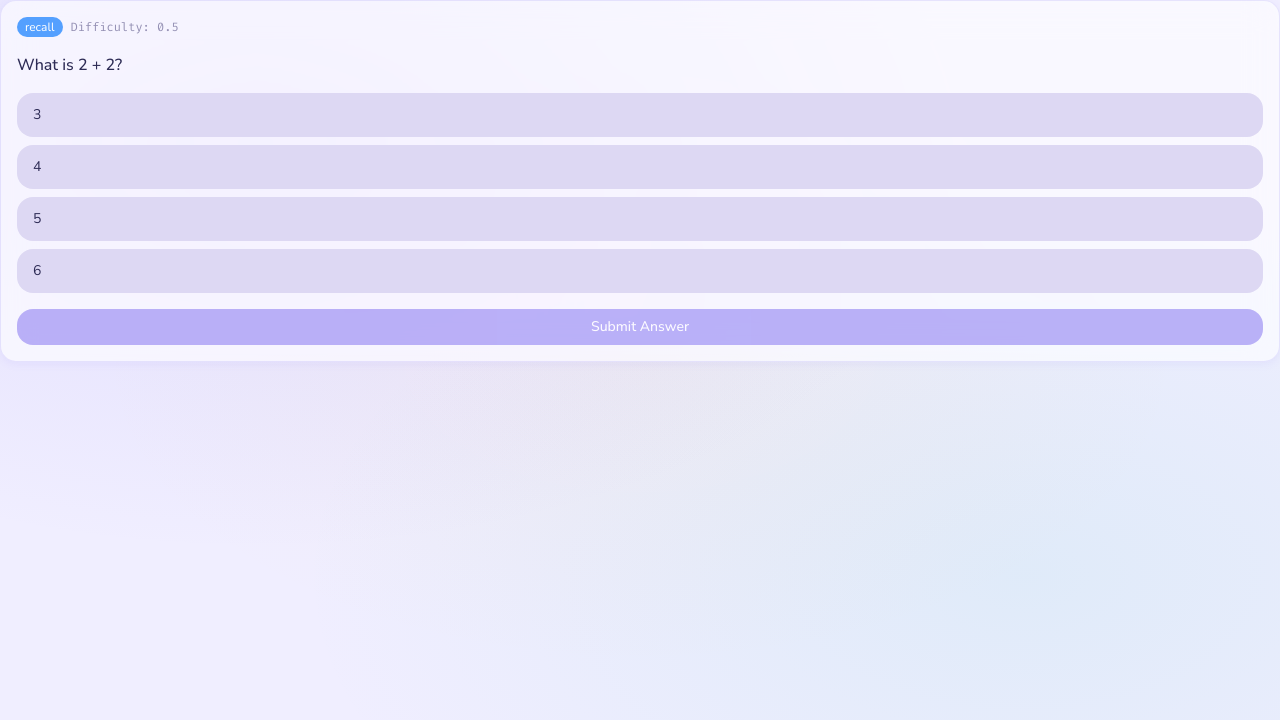
Test case: QuizQuestionCard › enables submit after selecting an option
Click the button "4" at [37, 166], box [17,145,1263,189]
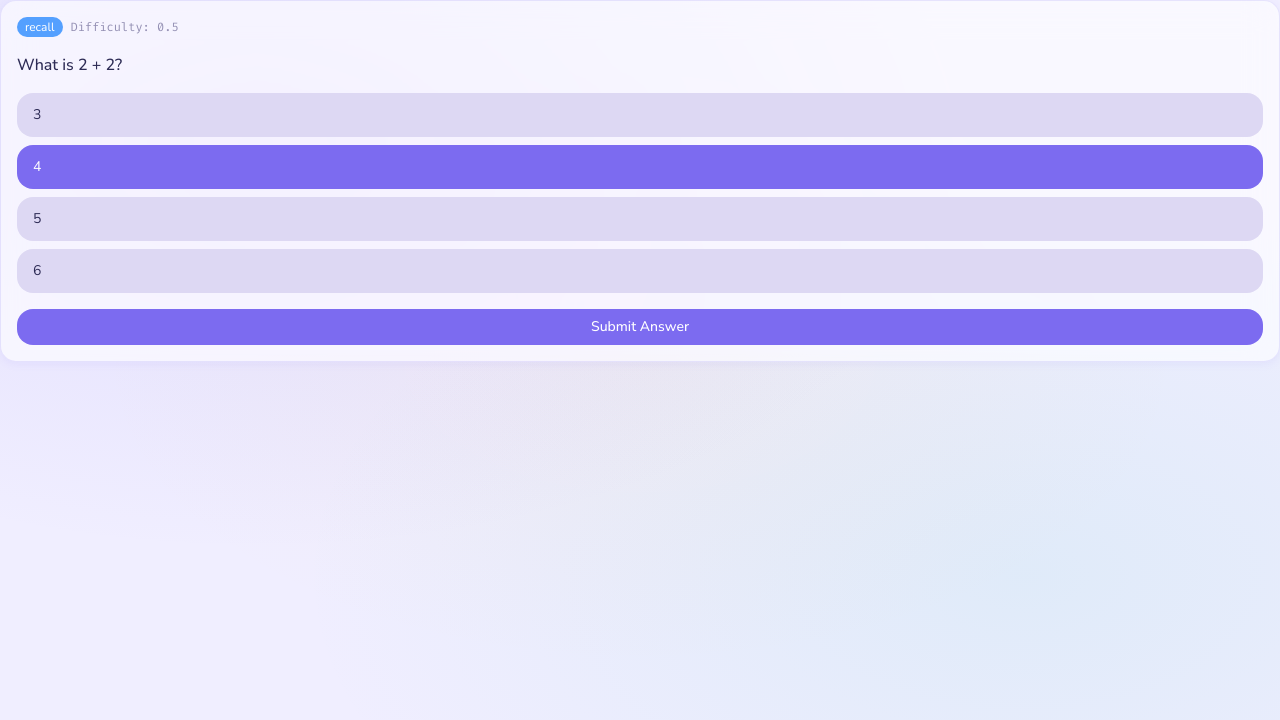
Now the button "Submit Answer" is enabled, box [17,309,1263,345]
